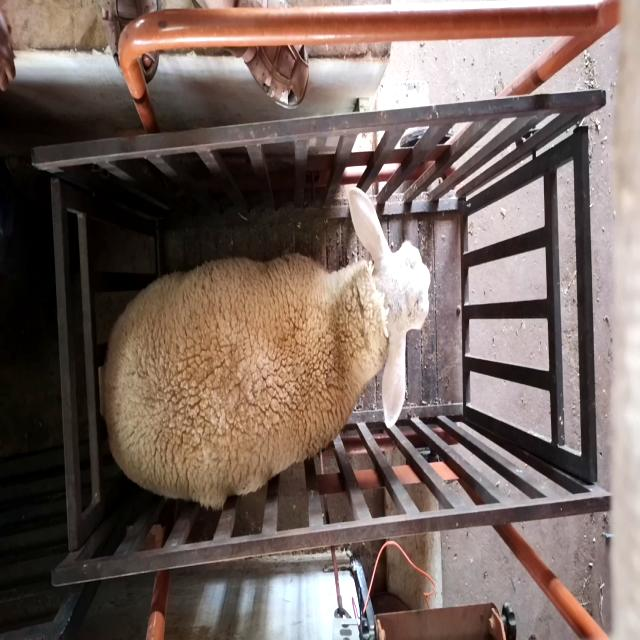sheep: (98, 185, 430, 512)
